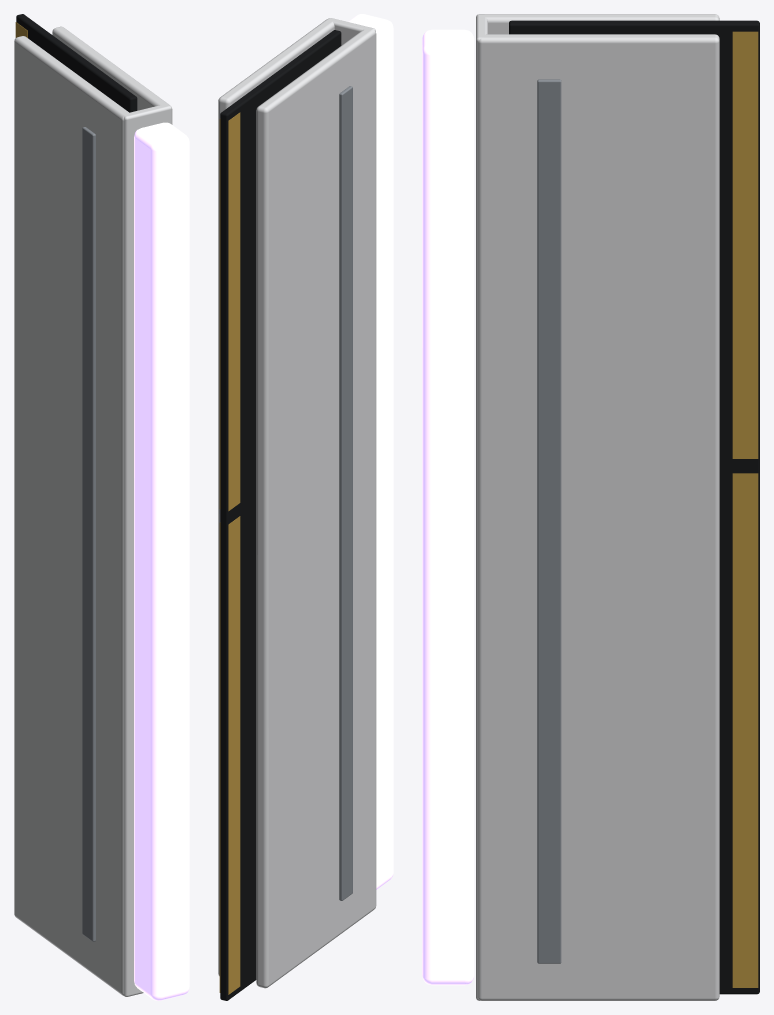
3 renders of one model, left to right at view 1: azimuth 30°, elevation 25°; view 2: azimuth 150°, elevation 25°; view 3: azimuth 270°, elevation 25°, orthographic. The views are drawn at different scales.
Parts seen in each view (by area): view 1: RAM_Heatspreader_L, RAM_RGB_Diffuser, RAM_Heatspreader_L_Trim, RAM_RGB_Housing, RAM_PCB, RAM_Heatspreader_R; view 2: RAM_Heatspreader_L, RAM_PCB, RAM_RGB_Diffuser, RAM_Contacts, RAM_Heatspreader_L_Trim, RAM_Heatspreader_R, RAM_RGB_Housing; view 3: RAM_Heatspreader_R, RAM_RGB_Diffuser, RAM_Contacts, RAM_Heatspreader_R_Trim, RAM_PCB, RAM_RGB_Housing, RAM_Heatspreader_L.
Boxes of the visible parts, left/top/right/bottom form: RAM_Heatspreader_L: left=14, top=36, right=128, bottom=995; RAM_RGB_Diffuser: left=134, top=122, right=189, bottom=1000; RAM_Heatspreader_L_Trim: left=82, top=127, right=95, bottom=941; RAM_RGB_Housing: left=123, top=104, right=171, bottom=996; RAM_PCB: left=16, top=14, right=137, bottom=112; RAM_Heatspreader_R: left=52, top=26, right=172, bottom=124; RAM_Heatspreader_L: left=256, top=28, right=376, bottom=988; RAM_PCB: left=220, top=30, right=341, bottom=1000; RAM_RGB_Diffuser: left=348, top=14, right=393, bottom=889; RAM_Contacts: left=219, top=112, right=240, bottom=994; RAM_Heatspreader_L_Trim: left=339, top=86, right=352, bottom=900; RAM_Heatspreader_R: left=218, top=19, right=334, bottom=976; RAM_RGB_Housing: left=327, top=18, right=375, bottom=45; RAM_Heatspreader_R: left=478, top=34, right=719, bottom=1000; RAM_RGB_Diffuser: left=422, top=29, right=474, bottom=985; RAM_Contacts: left=732, top=31, right=758, bottom=987; RAM_Heatspreader_R_Trim: left=537, top=79, right=561, bottom=963; RAM_PCB: left=509, top=20, right=759, bottom=994; RAM_RGB_Housing: left=476, top=14, right=487, bottom=1000; RAM_Heatspreader_L: left=482, top=14, right=719, bottom=34.
Size of the model in its own units: 0.0089 by 0.1334 by 0.0421.
